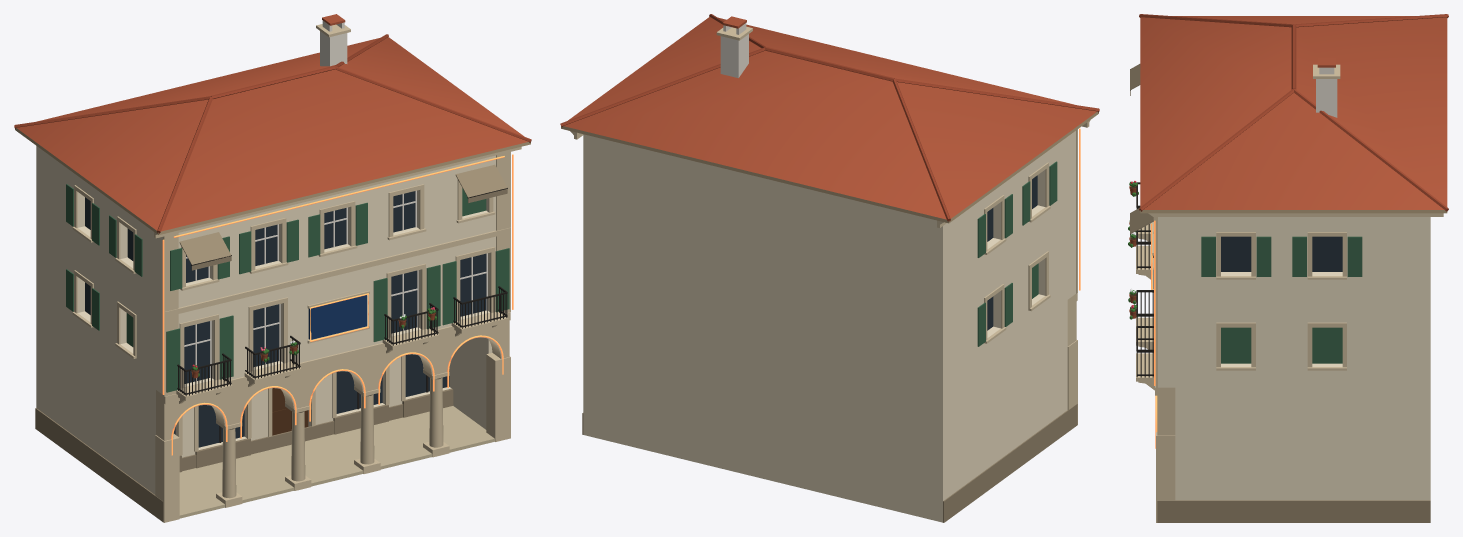
3 renders of one model, left to right at view 1: azimuth 30°, elevation 25°; view 2: azimuth 150°, elevation 25°; view 3: azimuth 270°, elevation 25°, orthographic. The views are drawn at different scales.
Visible parts, largest first — view 1: townhall.lod0; view 2: townhall.lod0; view 3: townhall.lod0.
Part boxes in pixels (box(x1,y1,x2,y2)): townhall.lod0: box(14, 14, 531, 522); townhall.lod0: box(560, 14, 1099, 522); townhall.lod0: box(1128, 14, 1448, 522).
Bounding box in the file's own units: 15.2 × 14.91 × 10.56.
